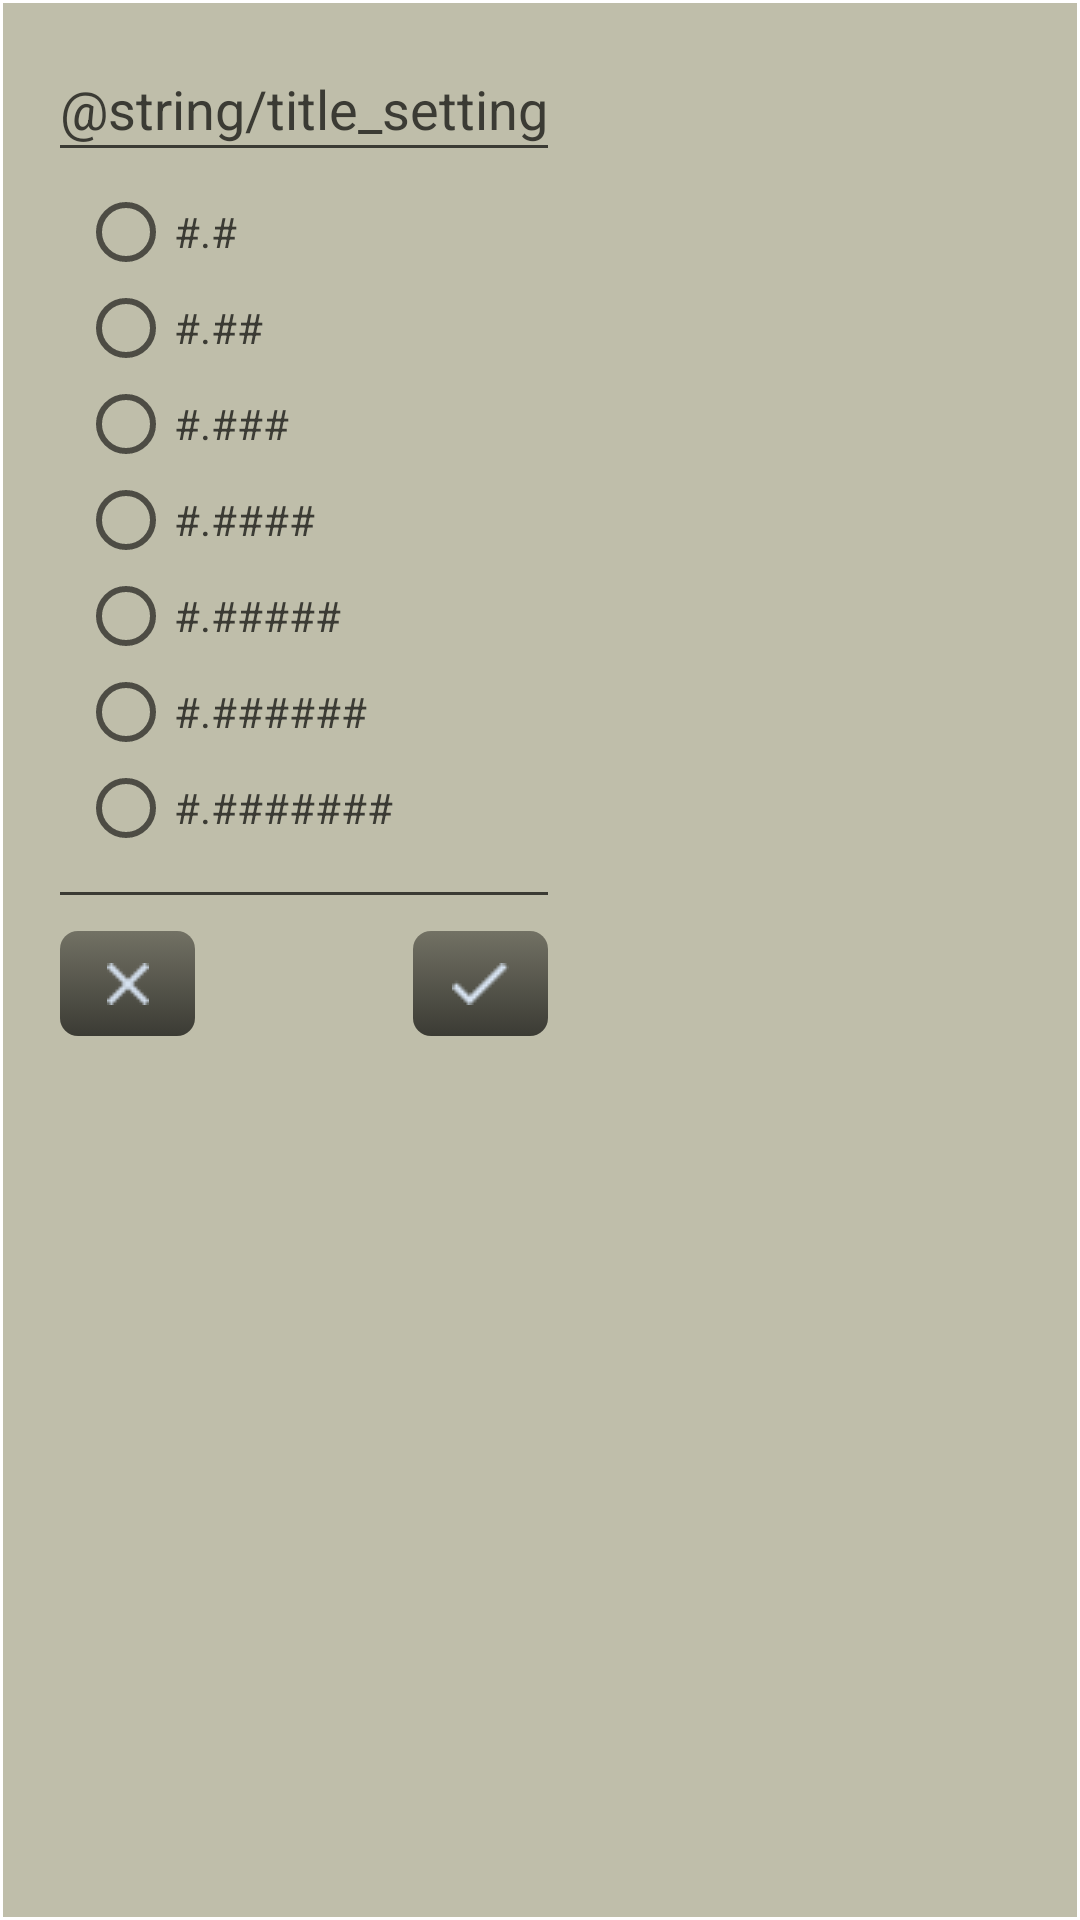

Screen size 1080 x 1920. Icon name, then its box in pixels as detection(x1, y1, x2, y2):
cancel: detection(60, 931, 195, 1036)
